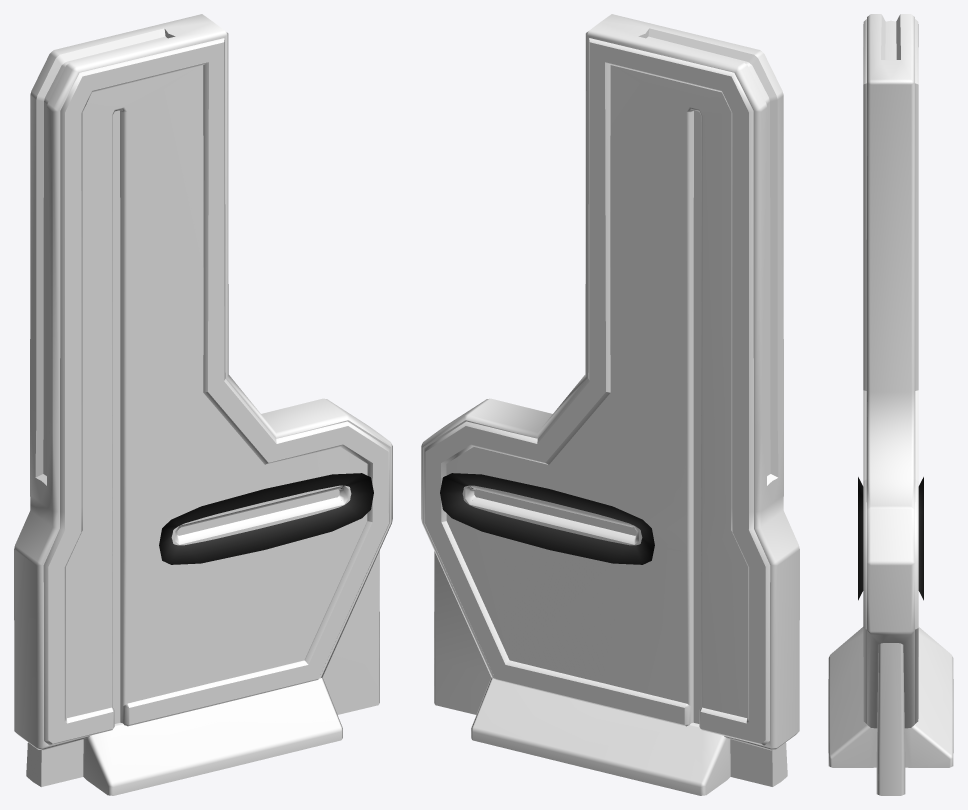
Rendered from HatCoBarrierUVisual.glb.
3 renders of one model, left to right at view 1: azimuth 30°, elevation 25°; view 2: azimuth 150°, elevation 25°; view 3: azimuth 270°, elevation 25°, orthographic. The views are drawn at different scales.
Parts seen in each view (by area): view 1: BarrierHologram, HatCoBarrierGlow; view 2: BarrierHologram, HatCoBarrierGlow; view 3: BarrierHologram, HatCoBarrierGlow.
Boxes of the visible parts, x1,y1,x2,y2 form: BarrierHologram: [14, 14, 392, 795]; HatCoBarrierGlow: [159, 473, 373, 564]; BarrierHologram: [421, 14, 799, 795]; HatCoBarrierGlow: [440, 473, 654, 564]; BarrierHologram: [828, 14, 953, 795]; HatCoBarrierGlow: [858, 477, 923, 600].
Size of the model in its own units: 1.05 by 2.01 by 0.3527.
Materials: 4 (3 with a texture image).
